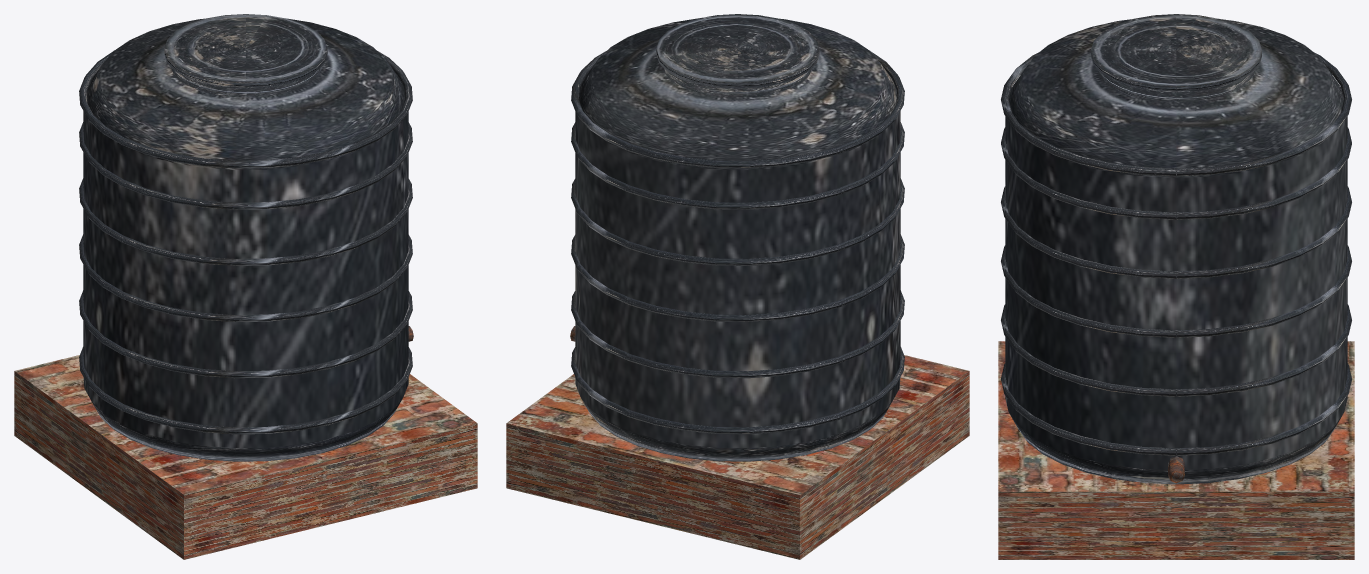
The model's file is prop_water_tank.glb.
The picture shows the model from 3 angles, left to right: view 1: azimuth 30°, elevation 25°; view 2: azimuth 150°, elevation 25°; view 3: azimuth 270°, elevation 25°; orthographic projection. The views are drawn at different scales.
Visible parts, largest first — view 1: prop_water_tank; view 2: prop_water_tank; view 3: prop_water_tank.
Boxes of the visible parts, x1,y1,x2,y2 form: prop_water_tank: [14, 14, 477, 559]; prop_water_tank: [506, 14, 969, 559]; prop_water_tank: [998, 14, 1354, 559].
Bounding box in the file's own units: 1.1 × 1.4 × 1.04.
3 materials, 3 textured.
